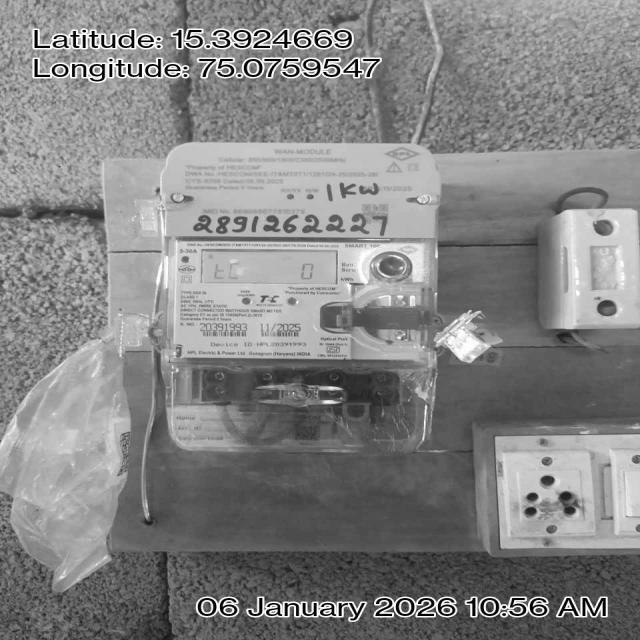meter: (165, 142, 442, 361)
